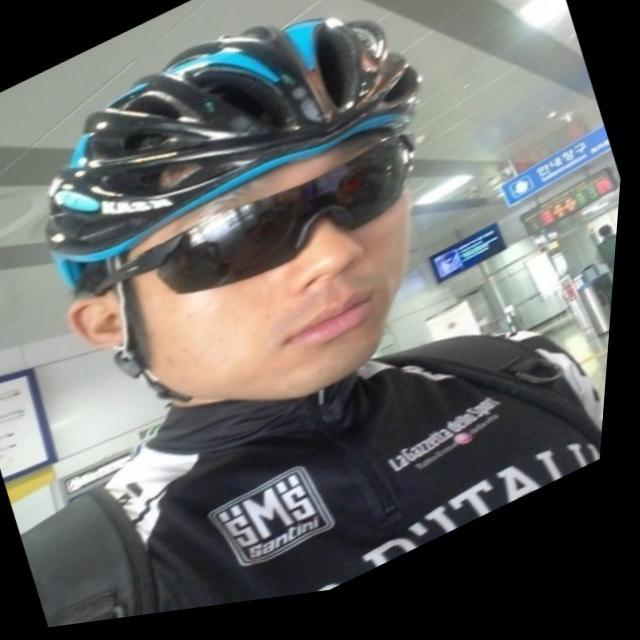Helmet: (43, 14, 423, 408)
